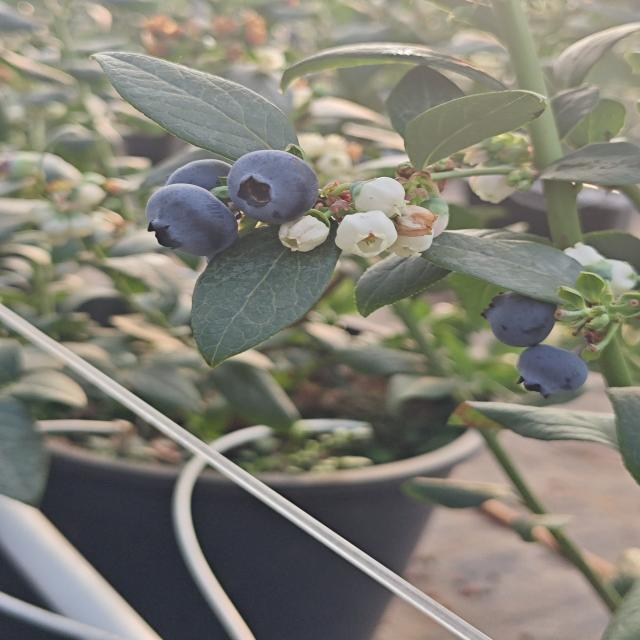ripe: (212, 152, 323, 236), (146, 183, 233, 255), (501, 346, 596, 405), (486, 291, 553, 353), (162, 152, 246, 195)
